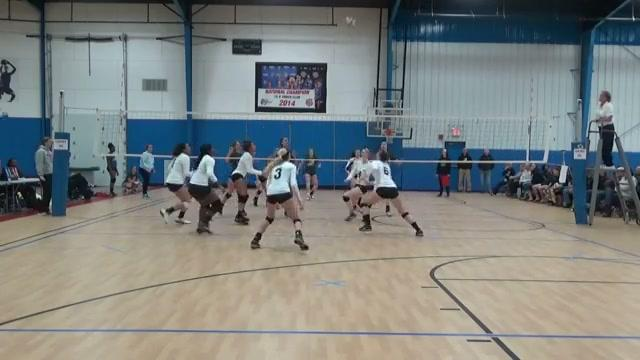ball: (346, 17, 358, 30)
